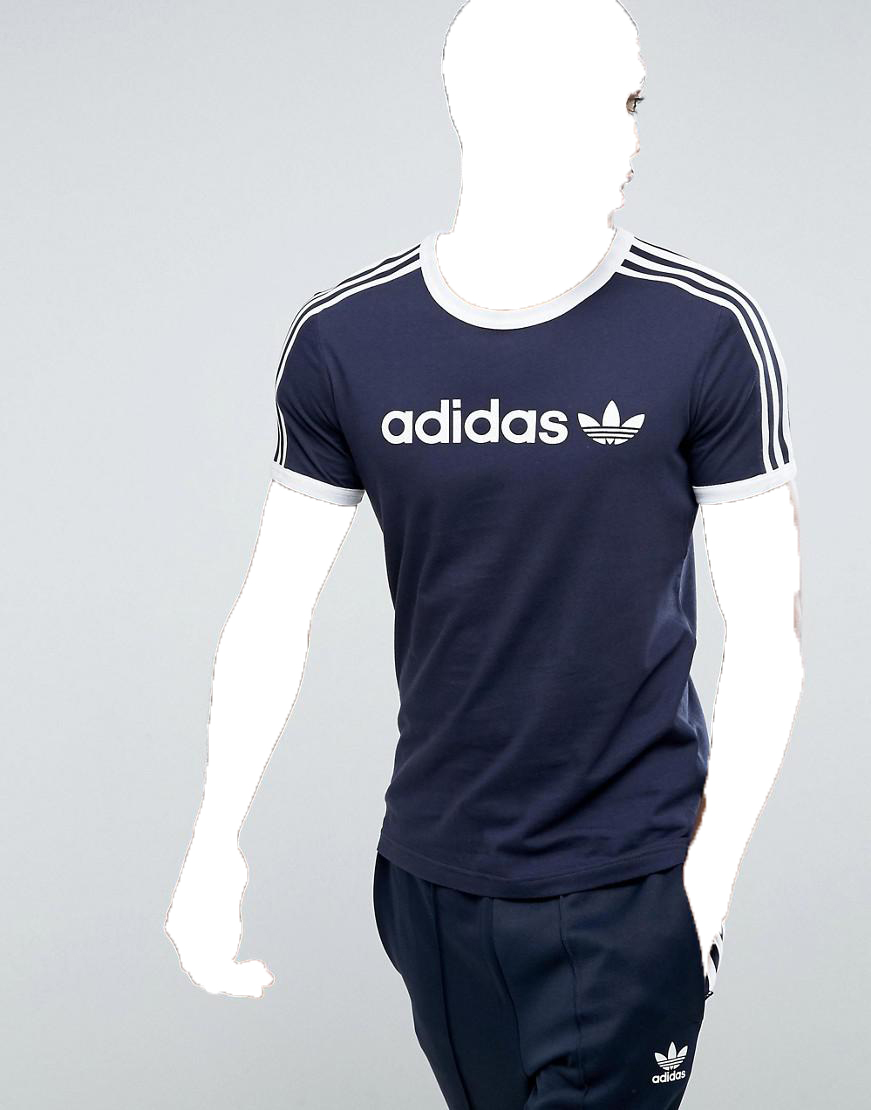teeshirt: (254, 225, 830, 901)
